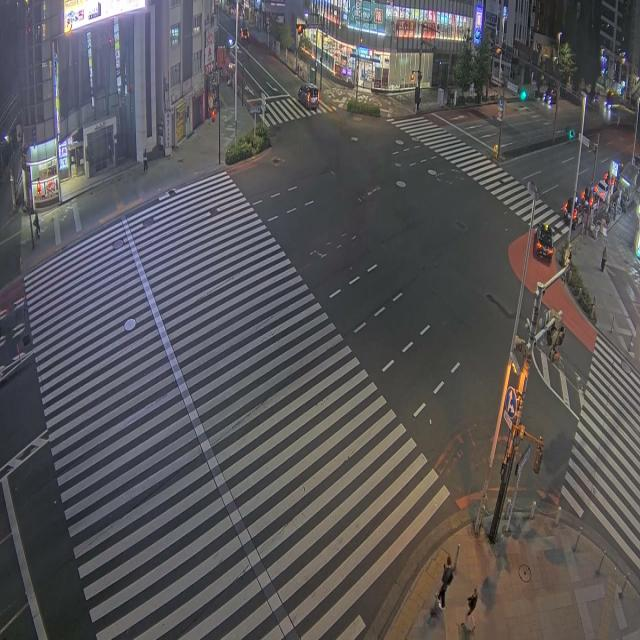car: (562, 190, 587, 228), (534, 224, 553, 261), (297, 83, 318, 110), (593, 180, 607, 201), (543, 89, 556, 105), (605, 90, 614, 109)
